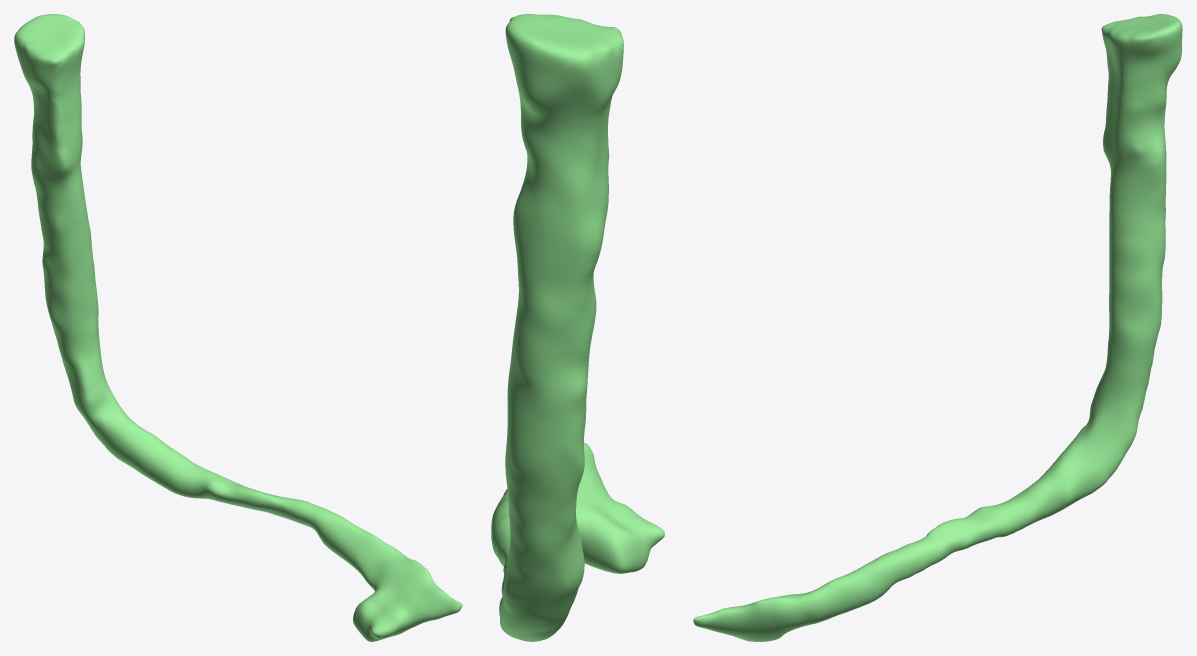
File: facial-nerve.glb
3 views of the same model, side by side, from view 1: azimuth 30°, elevation 25°; view 2: azimuth 150°, elevation 25°; view 3: azimuth 270°, elevation 25° (orthographic). The views are drawn at different scales.
Visible parts, largest first — view 1: 06_Facial Nerve.ply; view 2: 06_Facial Nerve.ply; view 3: 06_Facial Nerve.ply.
Part boxes in pixels (bbox=[...]): 06_Facial Nerve.ply: bbox=[14, 14, 462, 641]; 06_Facial Nerve.ply: bbox=[491, 14, 664, 641]; 06_Facial Nerve.ply: bbox=[693, 14, 1182, 641].
Bounding box in the file's own units: 8.67 × 18.71 × 15.23.
